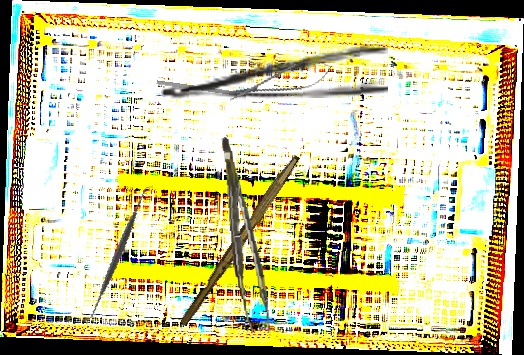Dressing Forceps: (160, 44, 389, 101)
Micro Scissor: (225, 53, 336, 110)
Pusher: (156, 80, 267, 100)
Scalpel Handle: (178, 151, 301, 329)
Spatula Surgical: (50, 185, 186, 322)
Tissue Forceps: (221, 134, 271, 338)
